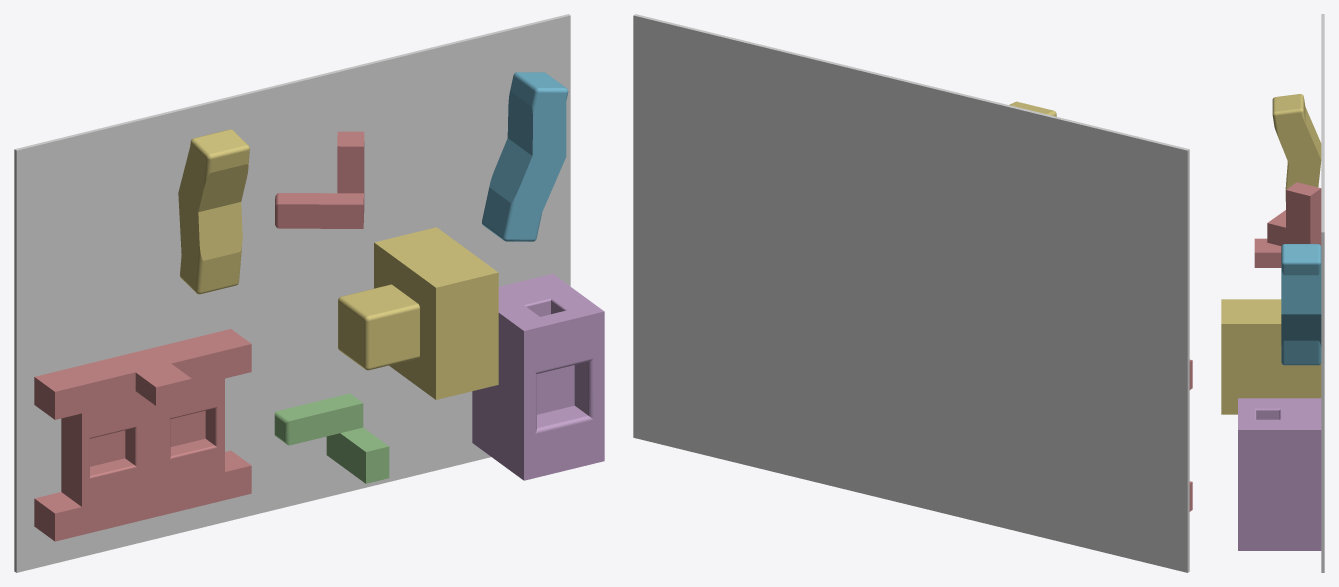
Rendered from pickup_layout.glb.
The picture shows the model from 3 angles, left to right: view 1: azimuth 30°, elevation 25°; view 2: azimuth 150°, elevation 25°; view 3: azimuth 270°, elevation 25°; orthographic projection. The views are drawn at different scales.
Parts seen in each view (by area): view 1: world, 0.obj, 3.obj, 6.obj, 2.obj, 1.obj, 4.obj, 5.obj; view 2: world; view 3: 3.obj, 6.obj, 2.obj, 1.obj, 5.obj, world, 0.obj.
Boxes of the visible parts, x1,y1,x2,y2 form: world: (14,14,570,572); 0.obj: (34,329,251,541); 3.obj: (472,273,604,480); 6.obj: (338,227,498,399); 2.obj: (482,72,568,241); 1.obj: (178,129,249,294); 4.obj: (274,393,389,483); 5.obj: (275,131,364,228); world: (633,14,1189,572); 3.obj: (1238,398,1321,550); 6.obj: (1221,299,1321,414); 2.obj: (1281,244,1321,365); 1.obj: (1272,94,1321,201); 5.obj: (1267,182,1321,246); world: (1321,14,1324,572); 0.obj: (1254,238,1321,267).
Size of the model in its own units: 31 by 22.57 by 6.2.
